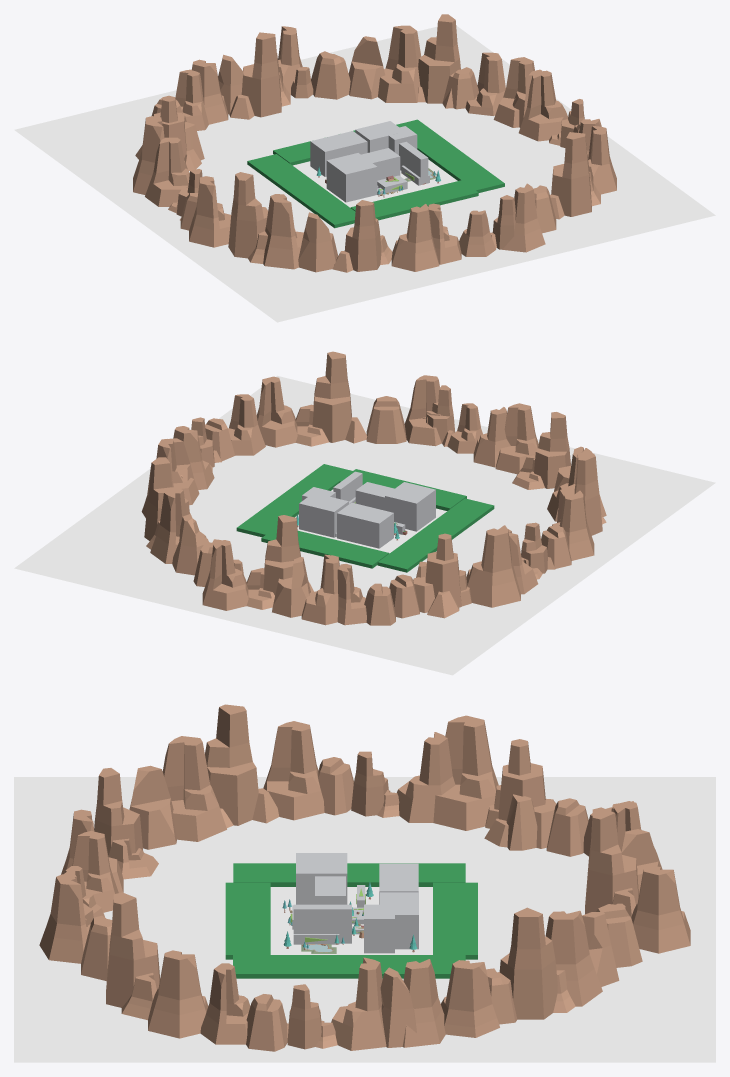
Rendered from forest-client.glb.
3 views of the same model, one above another, from view 1: azimuth 30°, elevation 25°; view 2: azimuth 150°, elevation 25°; view 3: azimuth 270°, elevation 25° (orthographic). The views are drawn at different scales.
Parts seen in each view (by area): view 1: map, ground, instanced_trees (×4), bounds5, bounds8, bounds3, bounds7, bounds2; view 2: ground, map, instanced_trees (×4), bounds8, bounds5, bounds3, bounds7, bounds2; view 3: map, ground, instanced_trees (×4), bounds2, bounds5, bounds3, bounds1, bounds8, bounds7.
Part boxes in pixels (x1,y1,x2,y2): map: (133,14,616,272); ground: (14,25,715,322); instanced_trees (×4): (247,119,504,228); bounds5: (326,153,377,202); bounds8: (310,131,367,176); bounds3: (355,121,404,152); bounds7: (361,148,400,180); bounds2: (399,141,428,183); ground: (14,375,715,675); map: (141,351,606,625); instanced_trees (×4): (236,464,494,572); bounds8: (337,502,393,548); bounds5: (385,482,435,531); bounds3: (299,493,348,537); bounds7: (355,482,394,510); bounds2: (333,471,362,501); map: (39,704,690,1051); ground: (14,777,715,1062); instanced_trees (×4): (225,863,477,978); bounds2: (293,904,351,943); bounds5: (296,853,347,904); bounds3: (380,892,418,949); bounds1: (364,904,394,953); bounds8: (379,863,418,904); bounds7: (315,876,345,904).
Bounding box in the file's own units: 133 × 24.28 × 138.
